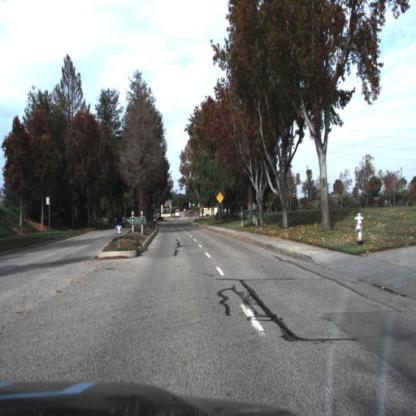car: (114, 217, 126, 229)
